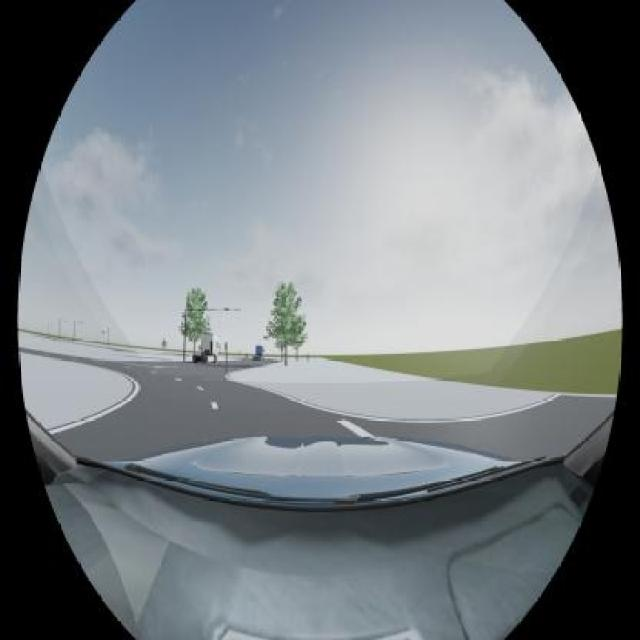forb_speed_over_60: (198, 345, 202, 350)
